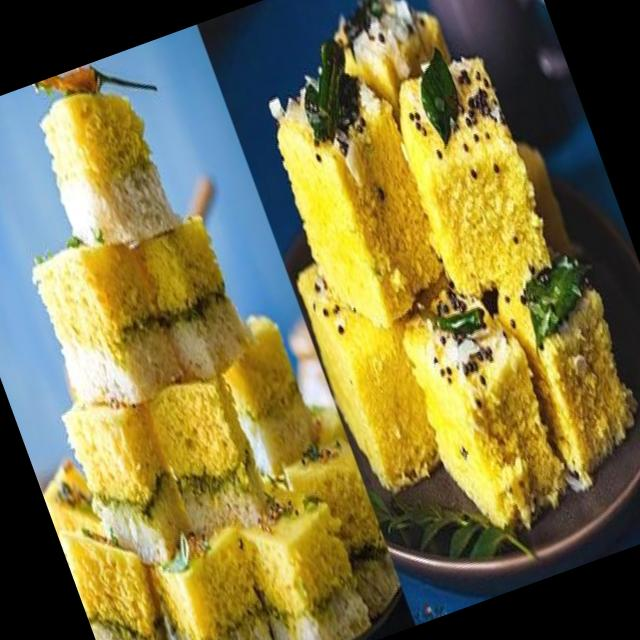dhokla: (0, 47, 406, 640), (225, 0, 640, 547)
